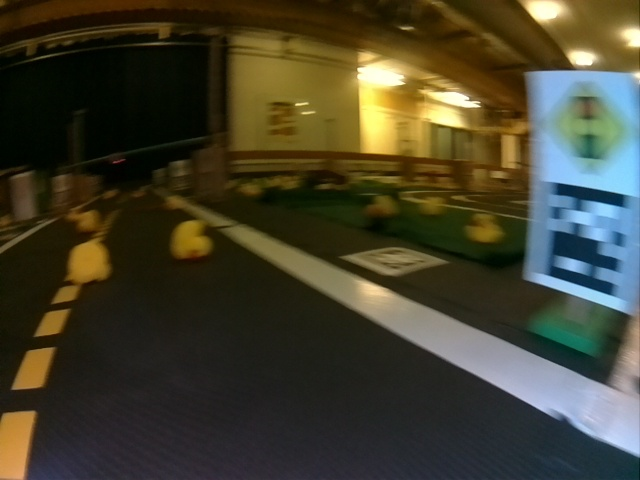Duckie: (67, 243, 110, 283), (171, 221, 211, 258), (466, 213, 504, 244), (77, 212, 100, 233)
QR code: (536, 182, 632, 301), (343, 249, 444, 275)
Signal sign: (544, 80, 631, 173)
